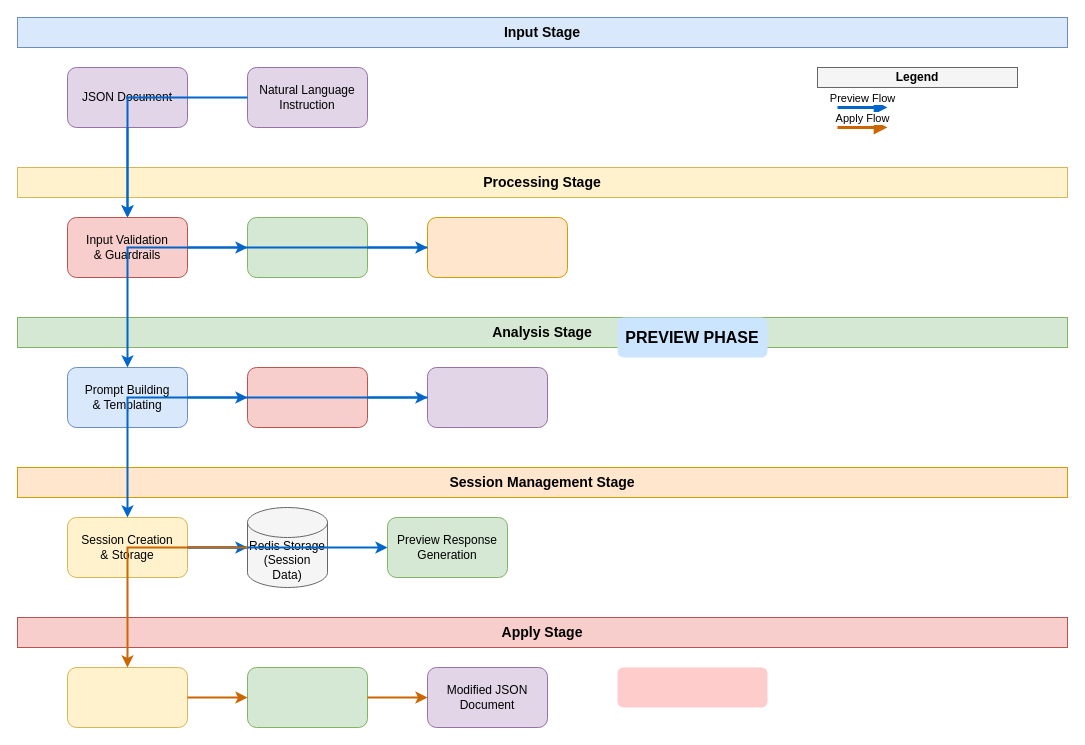
Some shapes in this 1085 by 745 pixel diagram are drawn without their labels. Each missing label, with the centre of its shape:
APPLY PHASE: the point at 692,687
Change Application (map2json): the point at 307,697
Change Extraction & Validation: the point at 487,397
JSON Parser (json2map): the point at 307,247
LLM Analysis & Processing: the point at 307,397
Map Format [{id, path, value}]: the point at 497,247
Session Retrieval & Validation: the point at 127,697
